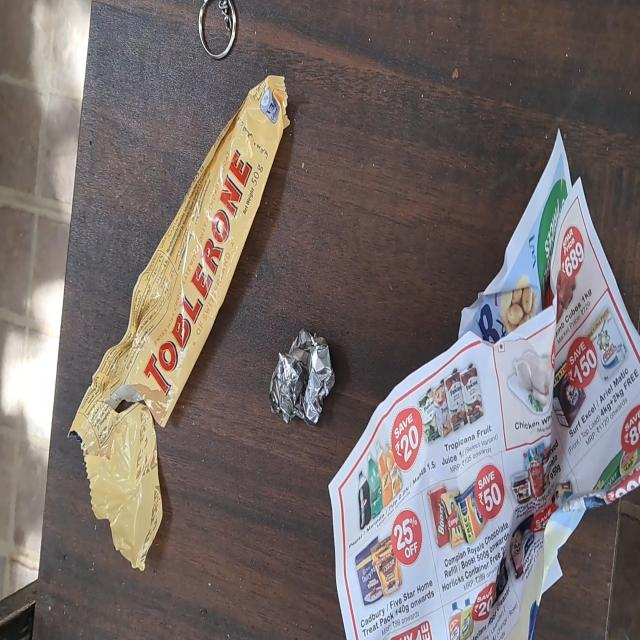Anorganik: (67, 44, 265, 573), (266, 333, 335, 426), (197, 0, 239, 59)
Organik: (335, 131, 640, 640)
